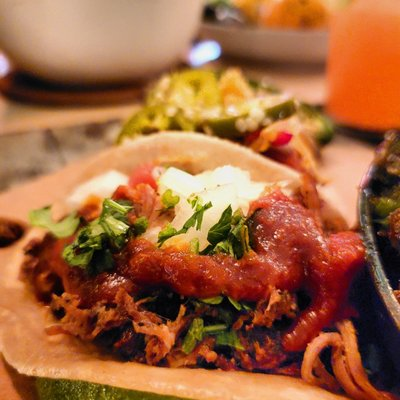sandwich: (0, 129, 374, 395)
